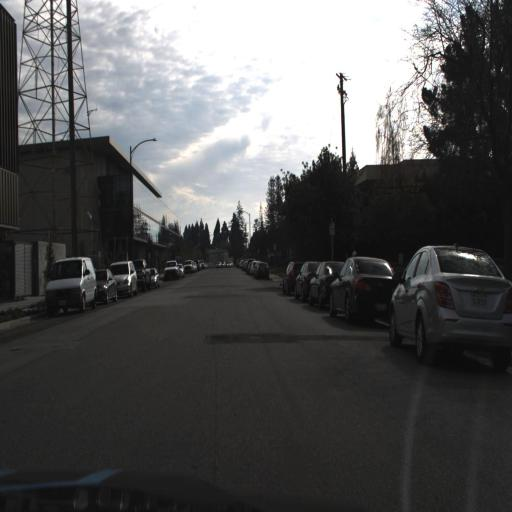car: (388, 239, 512, 368), (327, 248, 396, 324), (327, 253, 395, 322), (44, 251, 98, 312), (43, 256, 95, 319), (308, 258, 343, 308), (306, 256, 340, 305), (292, 259, 315, 305), (95, 265, 119, 309), (108, 259, 137, 295), (111, 263, 139, 299), (93, 266, 117, 306), (132, 255, 149, 292), (279, 255, 294, 294), (161, 256, 182, 282), (145, 260, 162, 290), (254, 259, 271, 281)
